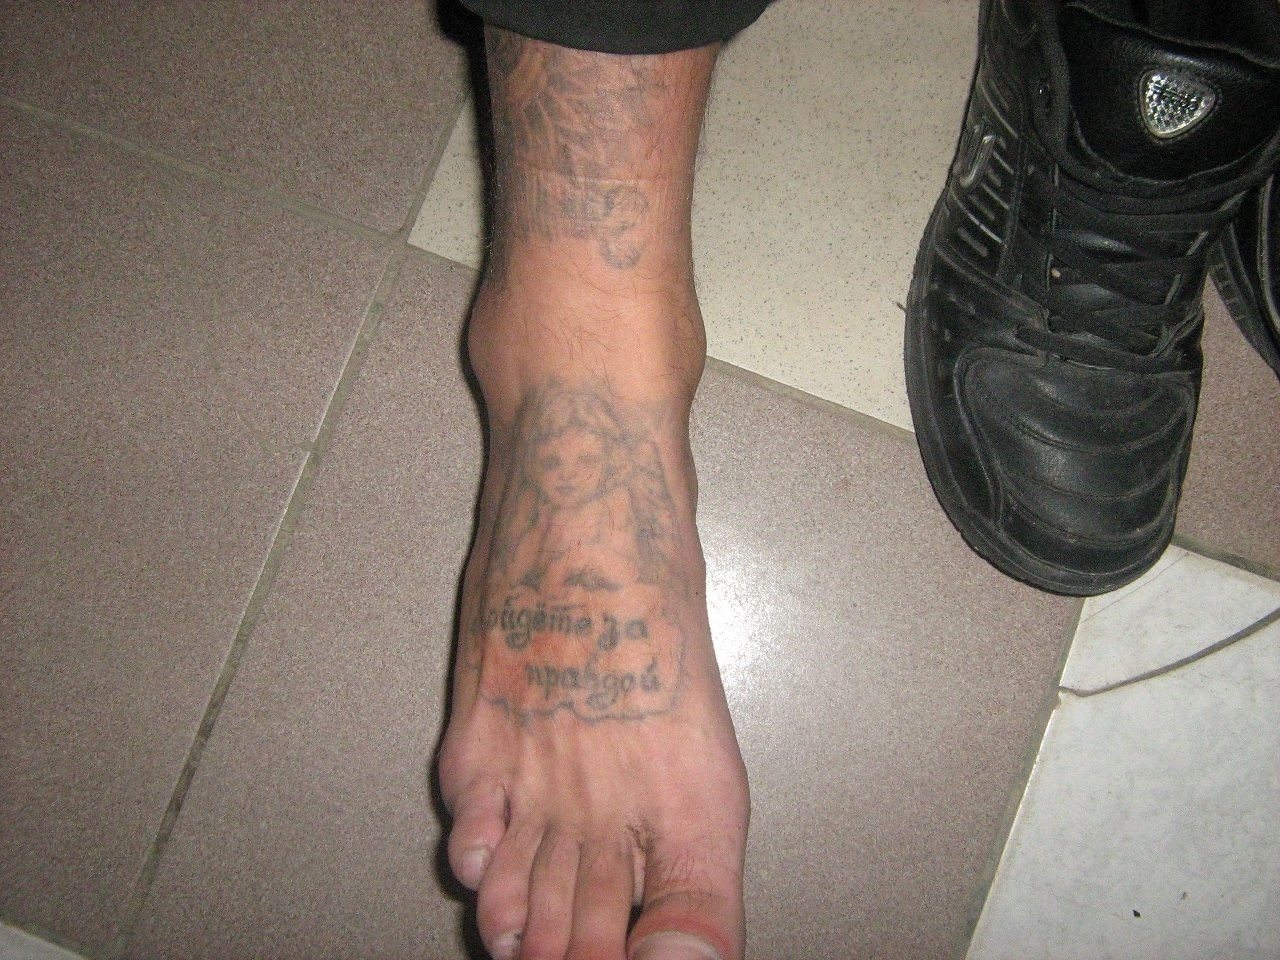tatu1_angel: (483, 376, 689, 591)
tatu3_bukva: (473, 590, 695, 724)
